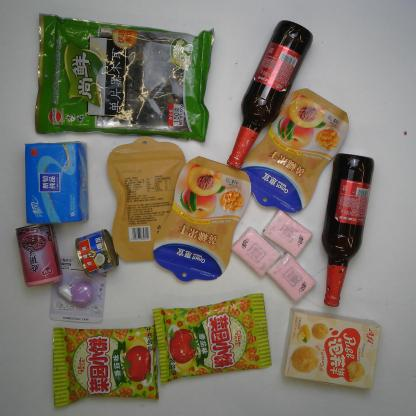Alcohol: (225, 19, 314, 171), (320, 152, 376, 307)
Canned Food: (14, 223, 64, 288), (74, 228, 120, 278)
Dessert: (280, 307, 383, 391)
Dried Food: (33, 12, 216, 144)
Dried Fruit: (240, 87, 350, 214), (153, 156, 252, 283), (106, 135, 187, 264)
Puffed Food: (152, 292, 272, 387), (51, 324, 160, 408)
Stationery: (48, 255, 108, 324)
Tissue: (23, 139, 90, 226), (266, 251, 318, 304), (231, 226, 282, 277), (262, 208, 314, 258)
